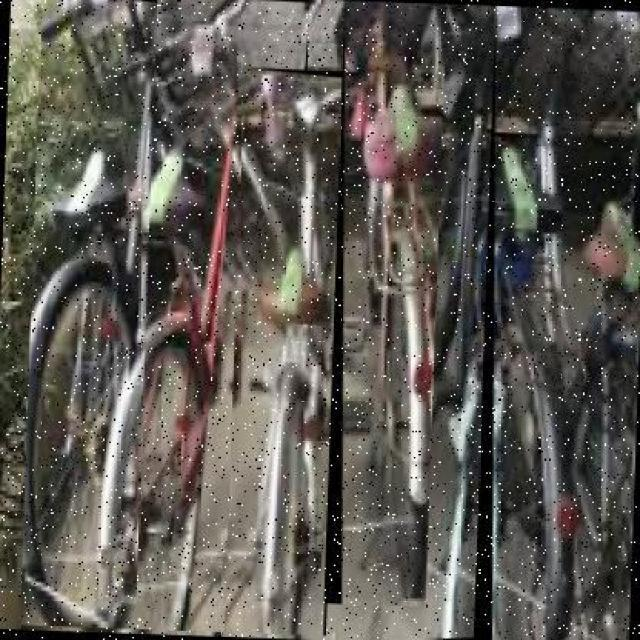bicycle: (21, 1, 209, 635), (137, 1, 314, 638), (475, 7, 640, 640), (426, 4, 579, 640), (325, 2, 463, 610), (225, 69, 348, 638)
